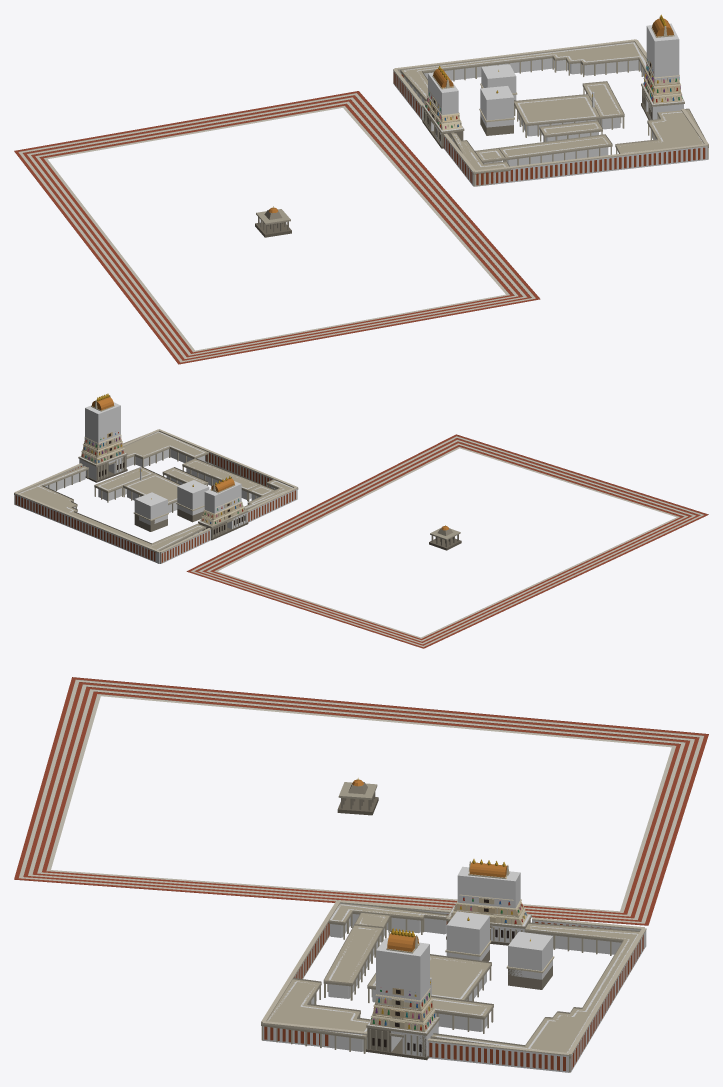
File: kapaleeshwarar-temple.glb
3 views of the same model, one above another, from view 1: azimuth 30°, elevation 25°; view 2: azimuth 150°, elevation 25°; view 3: azimuth 270°, elevation 25° (orthographic). The views are drawn at different scales.
Visible parts, largest first — view 1: LOD0, COL_08, COL_03, COL_15, COL_50, COL_68, COL_16, COL_07, COL_56; view 2: LOD0, COL_11, COL_03, COL_15, COL_16, COL_07, COL_14, COL_13; view 3: LOD0, COL_03, COL_07, COL_15, COL_16, COL_10, COL_11, COL_49, COL_09, COL_00, COL_32.
Boxes of the visible parts, x1=… form: LOD0: x1=14, y1=14, x2=708, y2=364; COL_08: x1=474, y1=146, x2=707, y2=186; COL_03: x1=646, y1=23, x2=679, y2=84; COL_15: x1=480, y1=86, x2=513, y2=127; COL_50: x1=417, y1=54, x2=555, y2=80; COL_68: x1=508, y1=143, x2=607, y2=166; COL_16: x1=481, y1=64, x2=516, y2=100; COL_07: x1=428, y1=72, x2=458, y2=114; COL_56: x1=585, y1=56, x2=641, y2=75; LOD0: x1=14, y1=393, x2=708, y2=648; COL_11: x1=14, y1=494, x2=156, y2=562; COL_03: x1=85, y1=402, x2=120, y2=448; COL_15: x1=177, y1=480, x2=209, y2=515; COL_16: x1=134, y1=492, x2=167, y2=525; COL_07: x1=204, y1=481, x2=241, y2=516; COL_14: x1=247, y1=488, x2=297, y2=522; COL_13: x1=161, y1=529, x2=210, y2=563; LOD0: x1=14, y1=677, x2=708, y2=1072; COL_03: x1=376, y1=938, x2=429, y2=1020; COL_07: x1=457, y1=866, x2=520, y2=916; COL_15: x1=446, y1=911, x2=489, y2=960; COL_16: x1=508, y1=931, x2=552, y2=979; COL_10: x1=427, y1=1041, x2=568, y2=1072; COL_11: x1=570, y1=933, x2=644, y2=1071; COL_49: x1=530, y1=928, x2=629, y2=954; COL_09: x1=263, y1=1026, x2=367, y2=1048; COL_00: x1=402, y1=1017, x2=438, y2=1056; COL_32: x1=435, y1=1008, x2=481, y2=1031.
Size of what is drawn, in the model's own units: 269 by 38.5 by 200.
